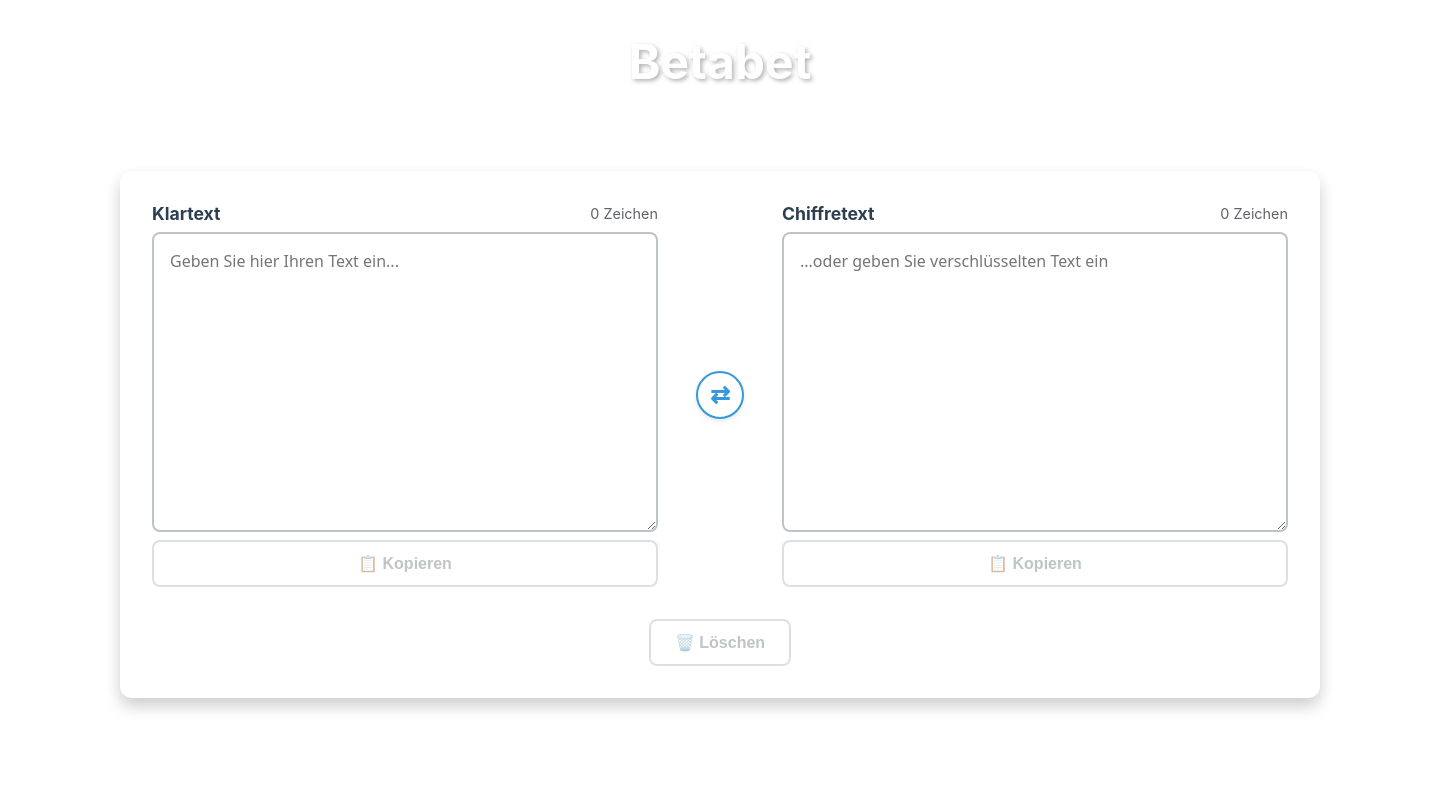
CipherTranslator › Encryption Flow › should encrypt text when typing in plaintext field
This screenshot has width=1440, height=810.
In the text box with test id "plaintext-input": (405, 382) [152,232,658,532], type "HELLO"
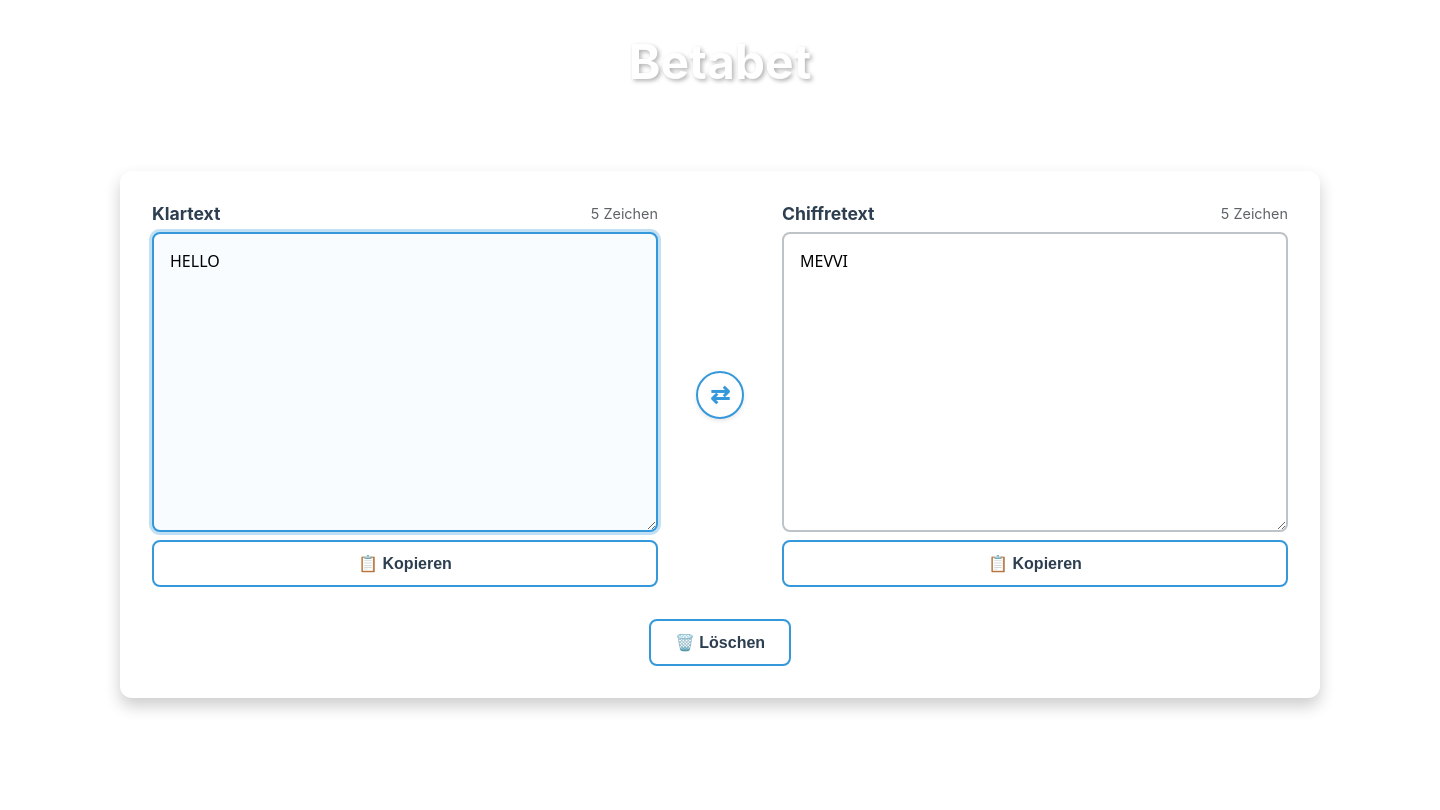
Expected: the text box with test id "ciphertext-input" holds "MEVVI", [782,232,1288,532]
